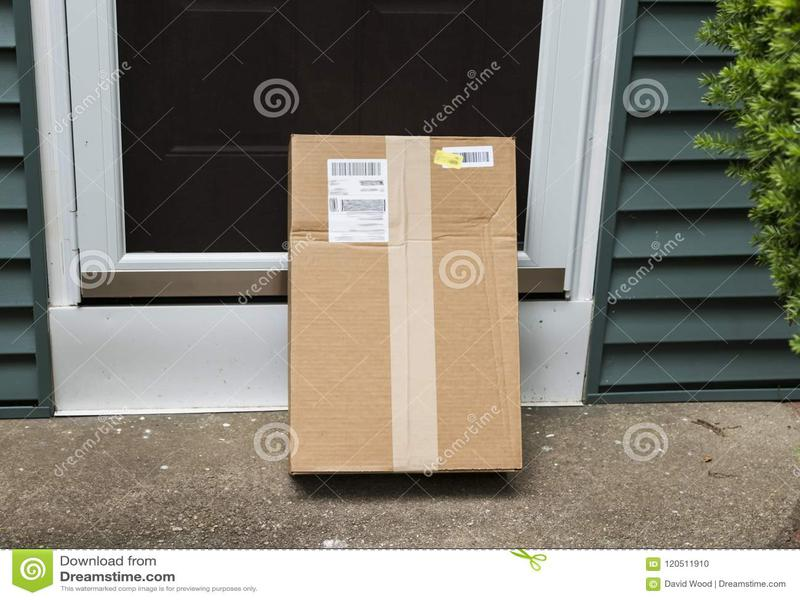package: (276, 121, 531, 495)
